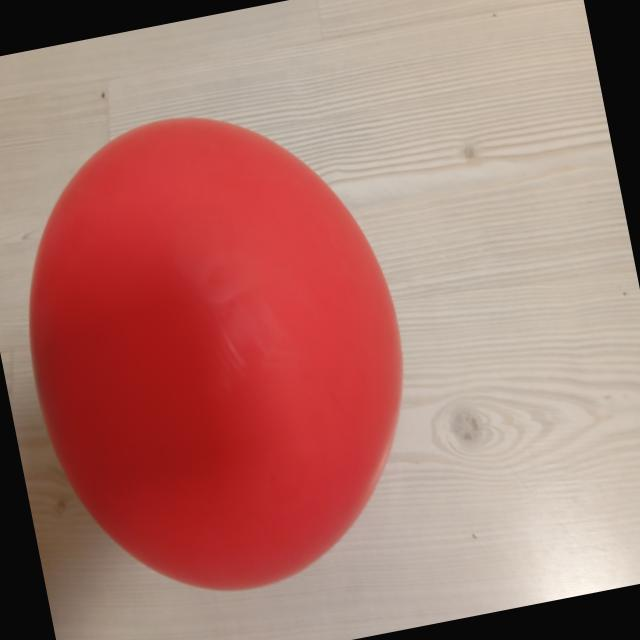balloon: (29, 118, 403, 590)
